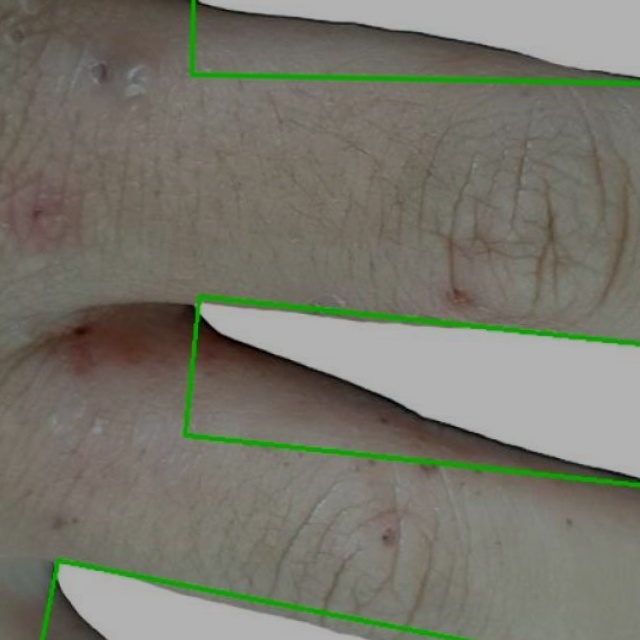Scabies: (185, 295, 639, 484)
